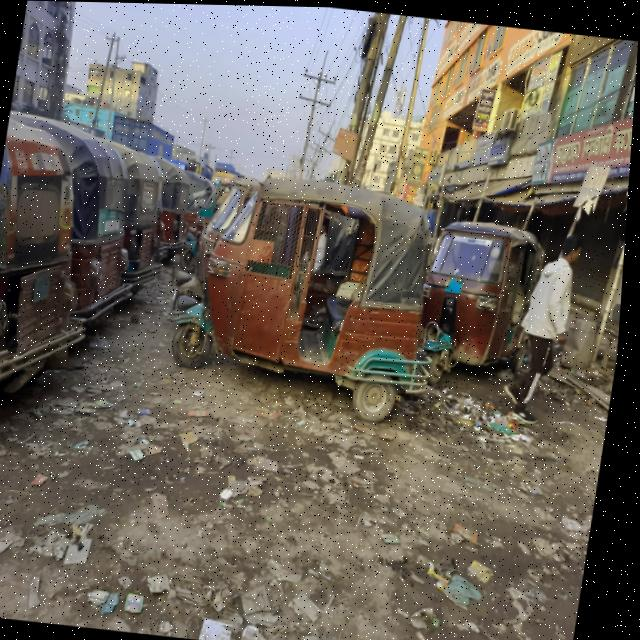cng: (156, 154, 463, 438)
